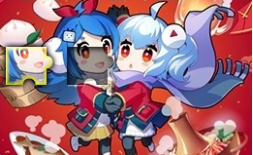gap: (66, 47, 114, 86)
